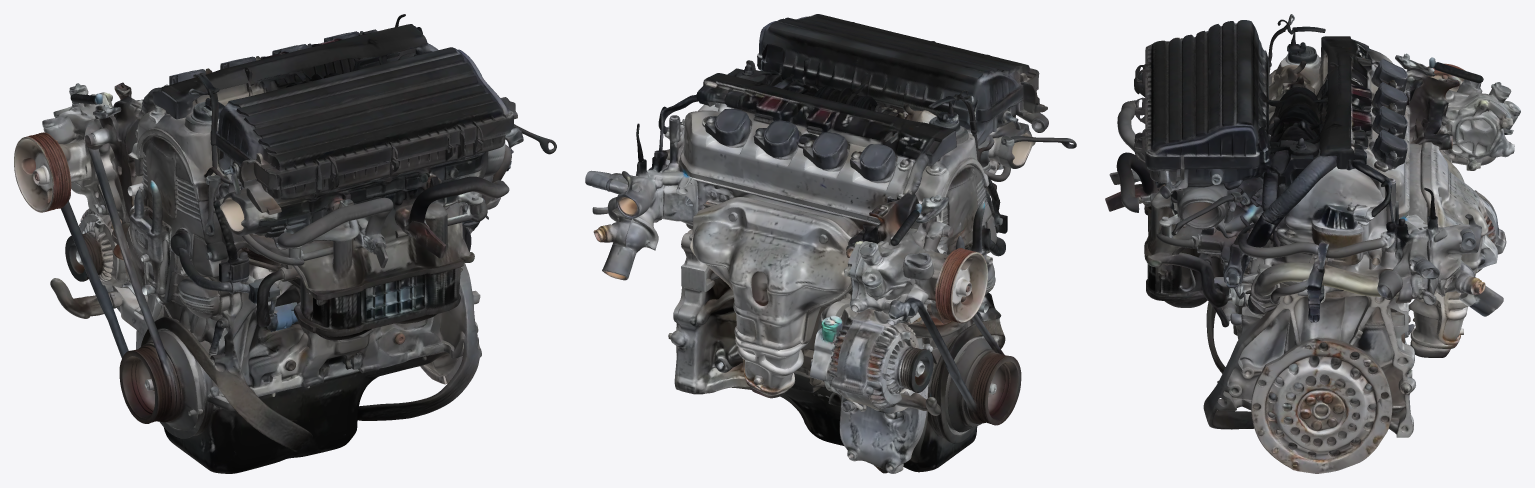
The model's file is motor_pbr.glb.
3 views of the same model, side by side, from view 1: azimuth 30°, elevation 25°; view 2: azimuth 150°, elevation 25°; view 3: azimuth 270°, elevation 25° (orthographic). The views are drawn at different scales.
Parts seen in each view (by area): view 1: pieza_01; view 2: pieza_01; view 3: pieza_01.
Part boxes in pixels (left/top/right/bottom): pieza_01: left=14, top=14, right=556, bottom=473; pieza_01: left=585, top=14, right=1076, bottom=473; pieza_01: left=1105, top=14, right=1520, bottom=473.
Size of the model in its own units: 1.9 by 1.75 by 1.77.
1 material, 1 textured.
